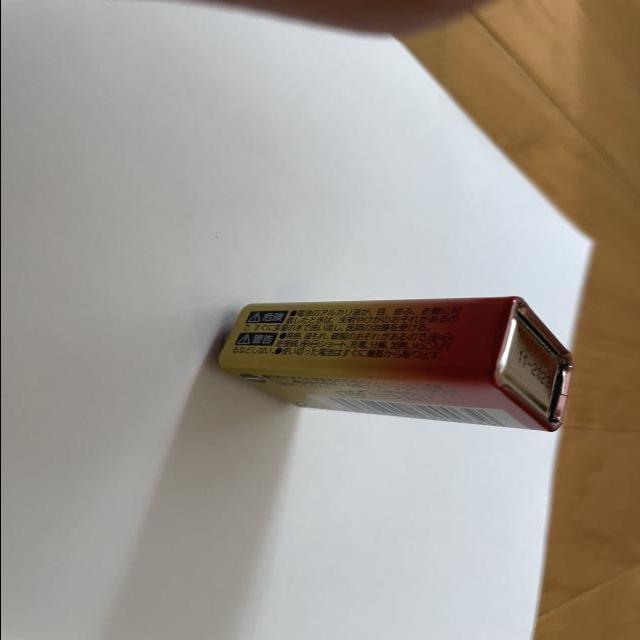9V: (212, 295, 573, 433)
